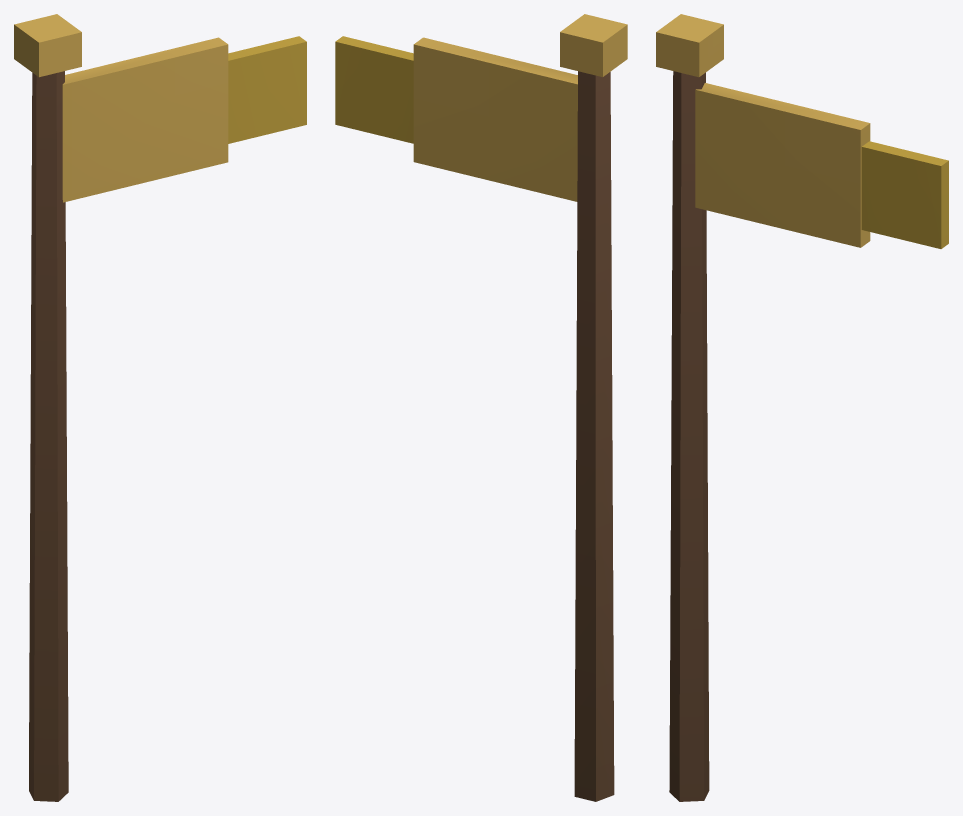
Rendered from custom-bandeira-marcacao.glb.
3 renders of one model, left to right at view 1: azimuth 30°, elevation 25°; view 2: azimuth 150°, elevation 25°; view 3: azimuth 330°, elevation 25°, orthographic.
Parts seen in each view (by area): view 1: bandeira-marcacao; view 2: bandeira-marcacao; view 3: bandeira-marcacao.
Part boxes in pixels (left/top/right/bottom): bandeira-marcacao: left=14, top=14, right=306, bottom=801; bandeira-marcacao: left=335, top=14, right=627, bottom=801; bandeira-marcacao: left=656, top=14, right=948, bottom=801.
Size of the model in its own units: 0.835 by 2.21 by 0.13.
